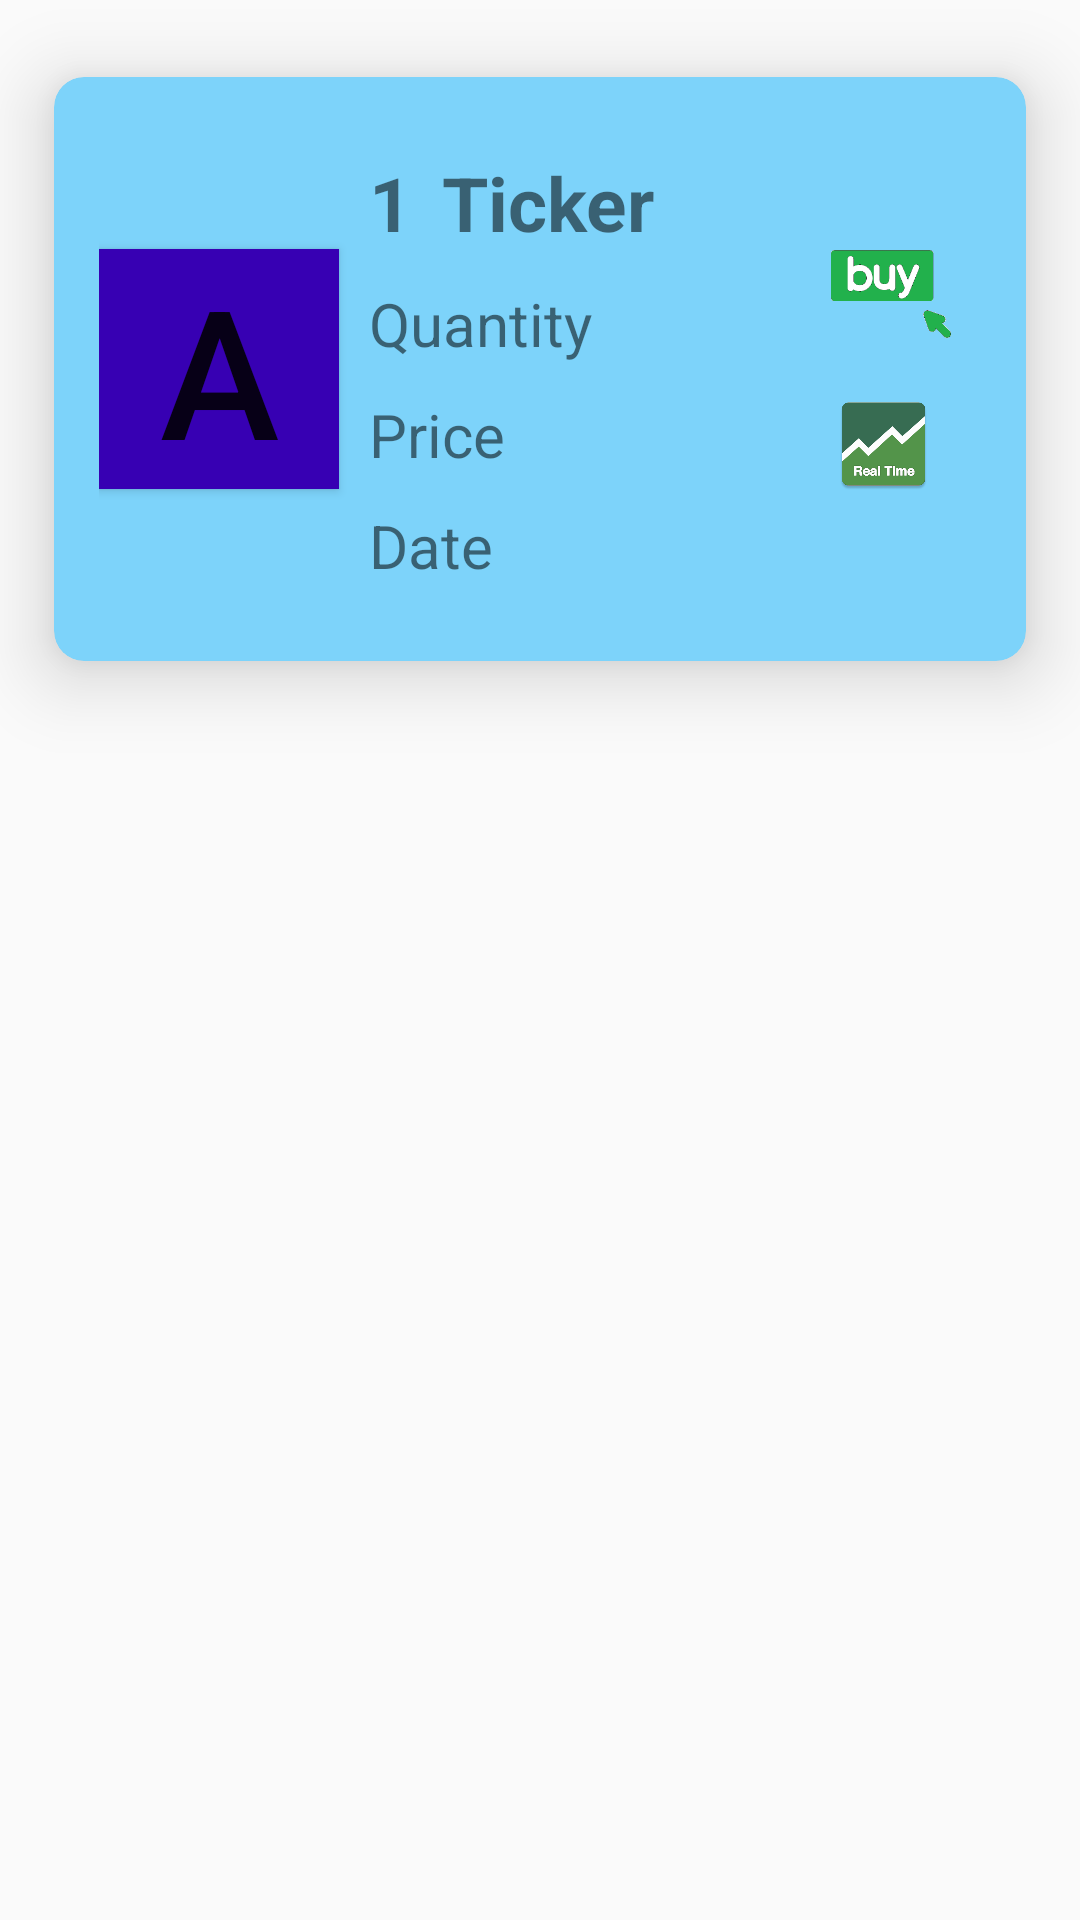

Named icons in this screenshot (1080x1920) and their bounding boxes, [x1,y1,x2,y2]:
stock: [842,402,925,488]
